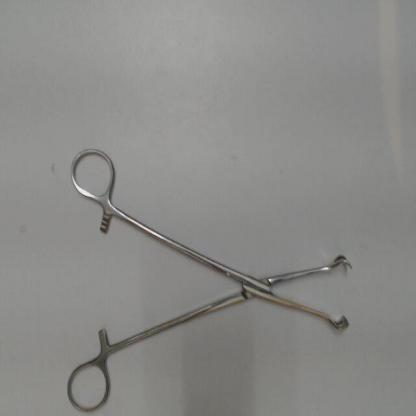8 Babcock Tissue Forceps: (60, 143, 357, 414)
